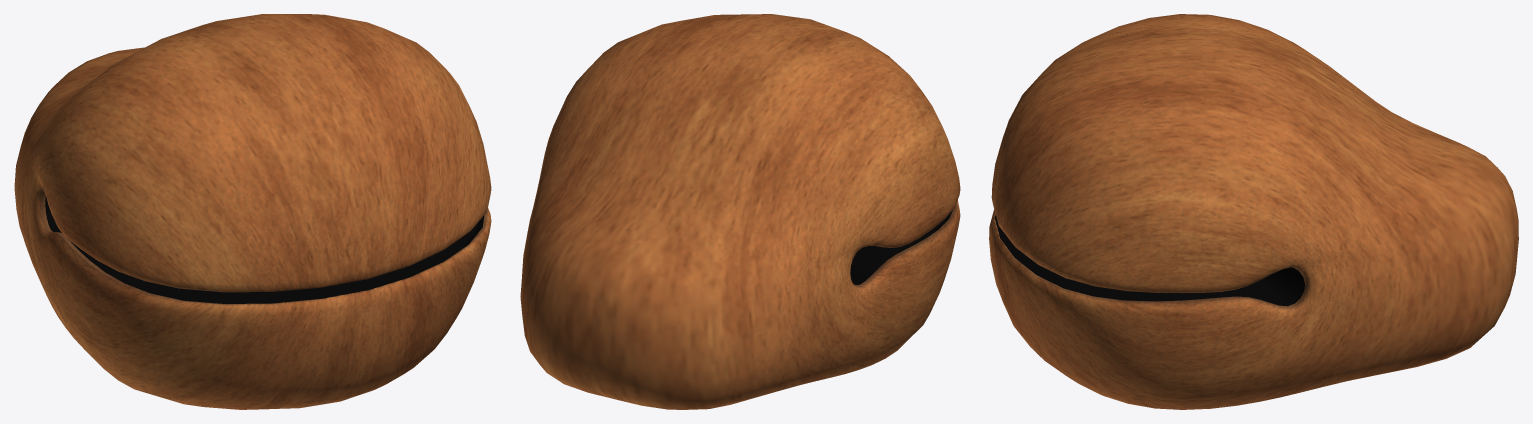
The picture shows the model from 3 angles, left to right: view 1: azimuth 30°, elevation 25°; view 2: azimuth 150°, elevation 25°; view 3: azimuth 270°, elevation 25°; orthographic projection. The views are drawn at different scales.
Visible parts, largest first — view 1: Subdivision_Surface_1 (×2); view 2: Subdivision_Surface_1 (×2); view 3: Subdivision_Surface_1 (×2).
Boxes of the visible parts, left/top/right/bottom form: Subdivision_Surface_1 (×2): left=14, top=14, right=491, bottom=409; Subdivision_Surface_1 (×2): left=520, top=14, right=960, bottom=409; Subdivision_Surface_1 (×2): left=989, top=14, right=1518, bottom=409.
Bounding box in the file's own units: 196 × 159 × 243.
Materials: 2 (2 with a texture image).
